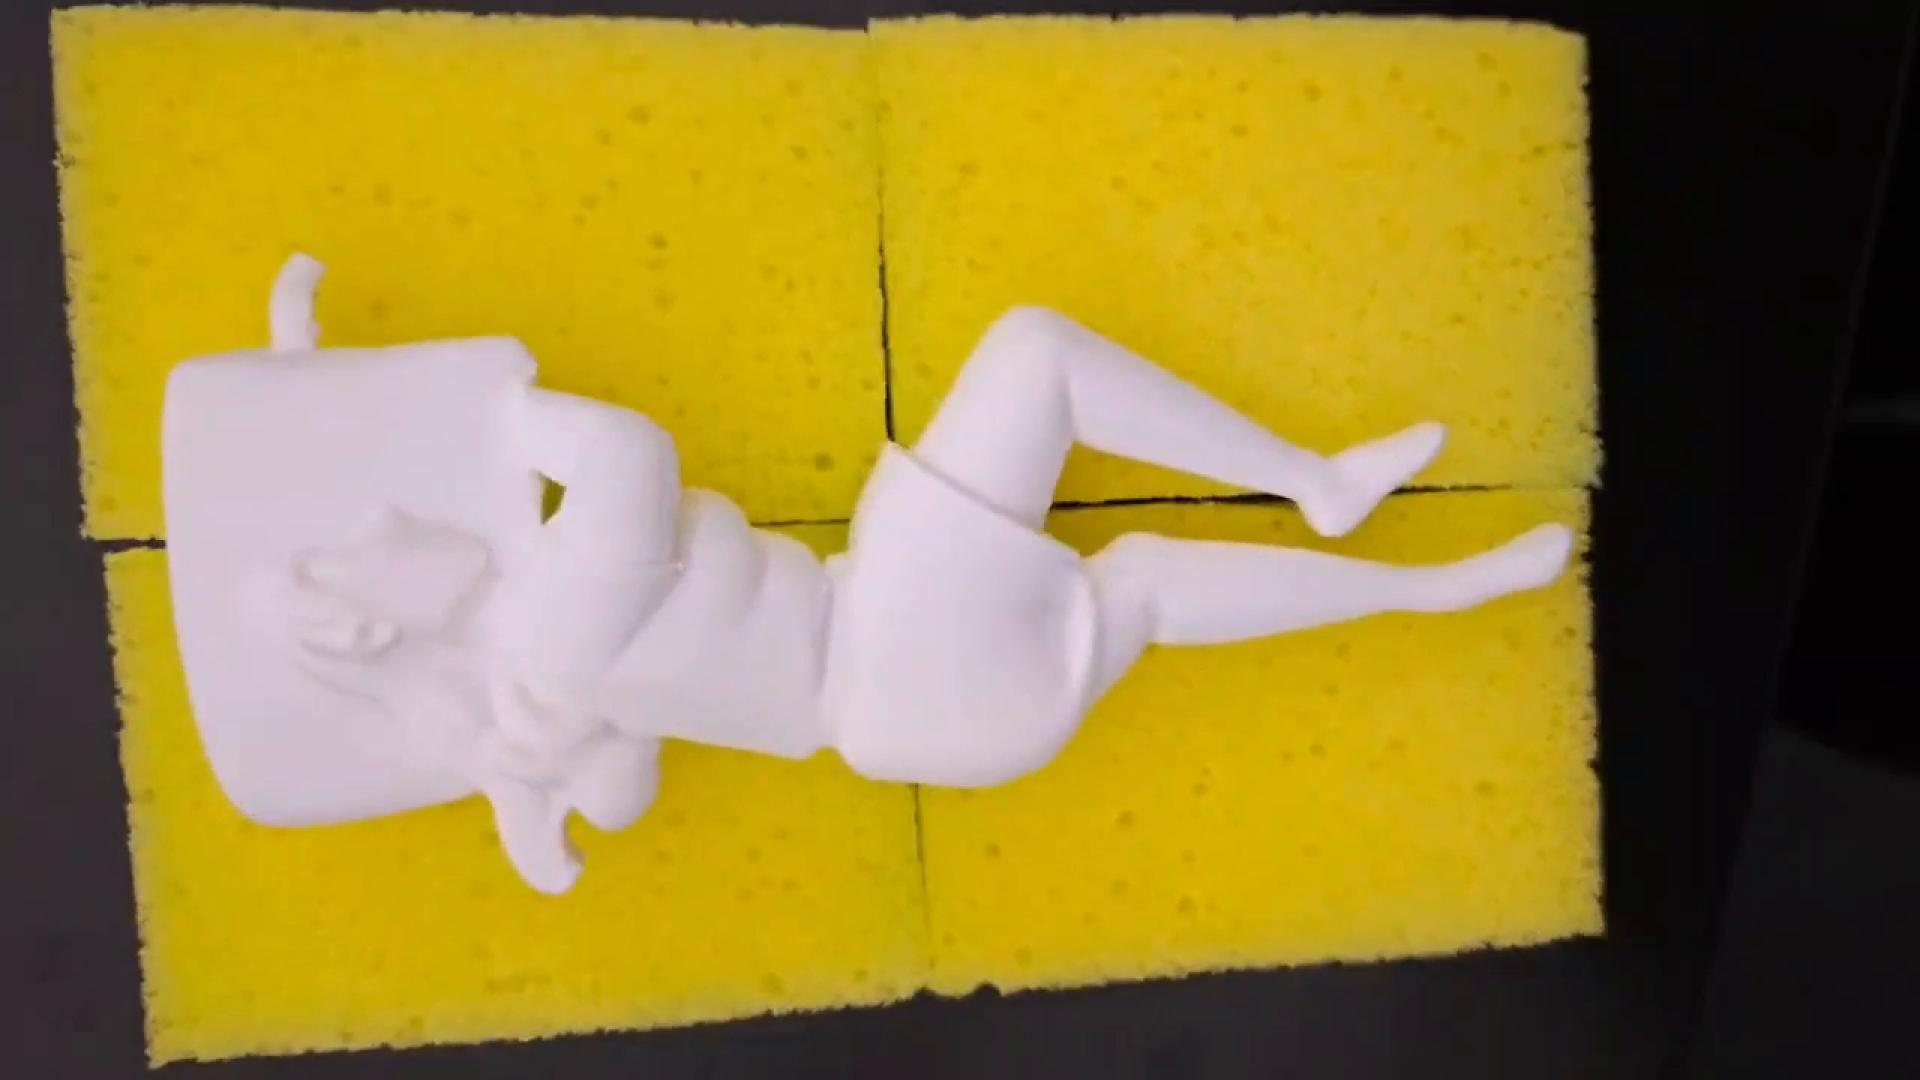Good-style: (160, 245, 1569, 902)
